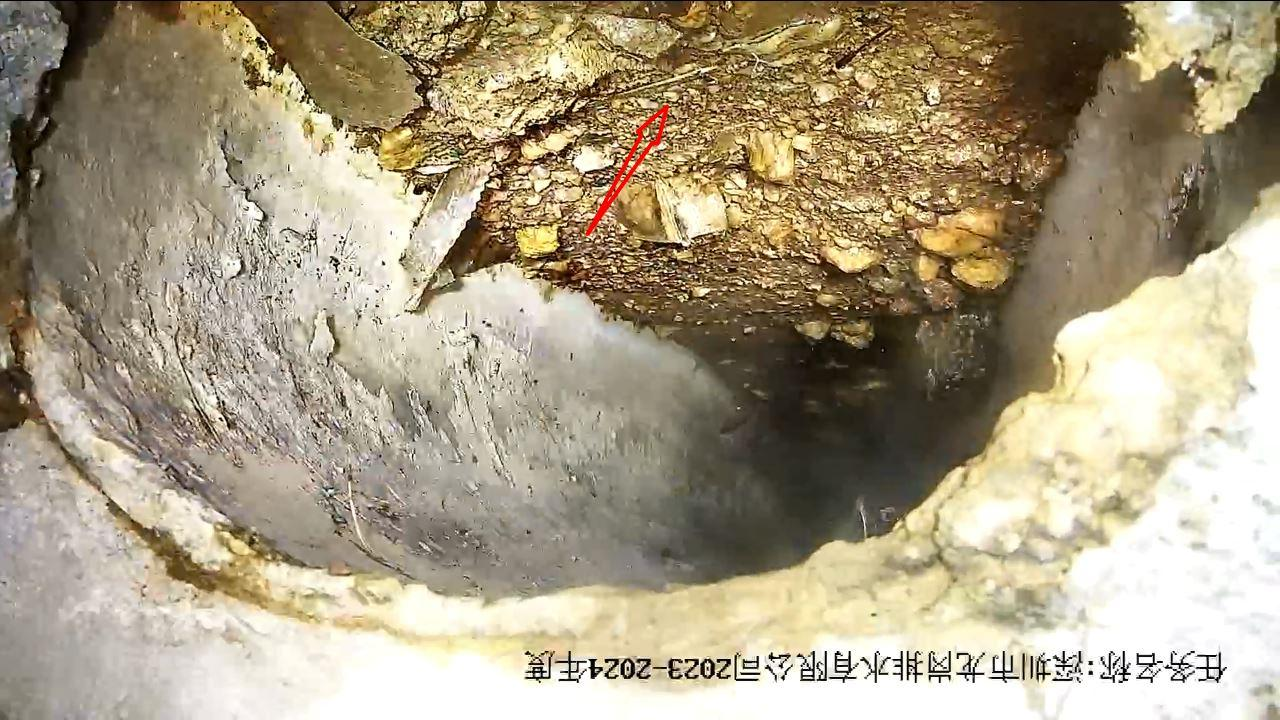CJ: (234, 3, 1143, 347)
